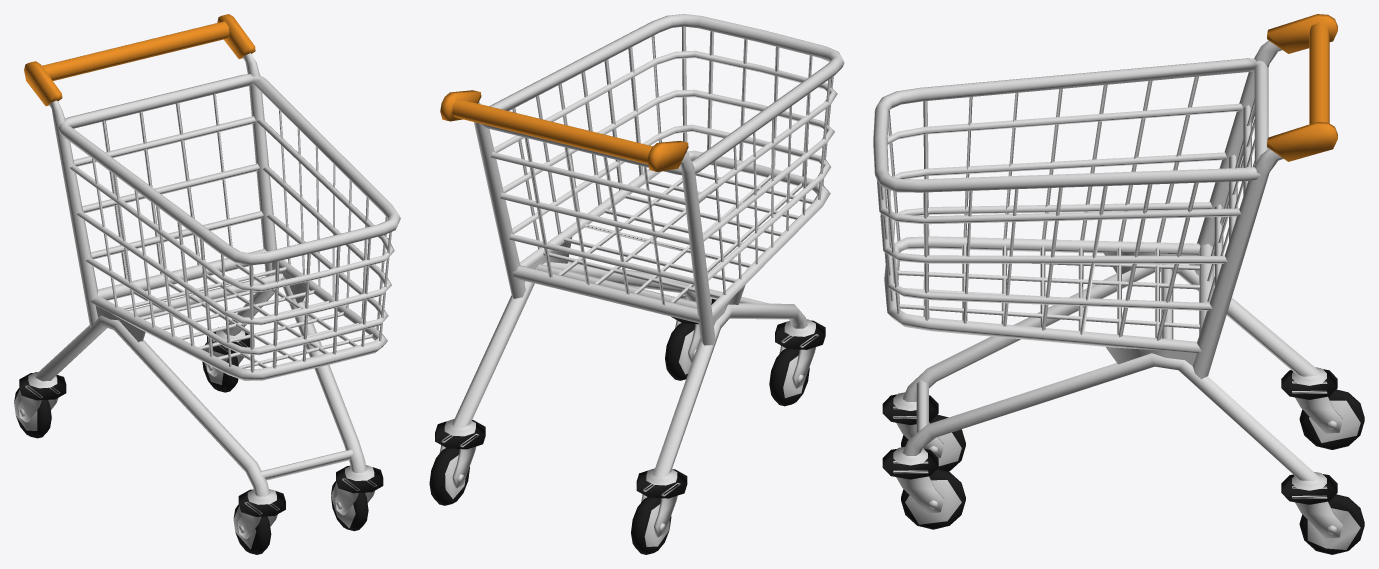
The model's file is ShoppingCart.glb.
The picture shows the model from 3 angles, left to right: view 1: azimuth 30°, elevation 25°; view 2: azimuth 150°, elevation 25°; view 3: azimuth 270°, elevation 25°; orthographic projection. The views are drawn at different scales.
Visible parts, largest first — view 1: Einkaufswagen; view 2: Einkaufswagen; view 3: Einkaufswagen.
Boxes of the visible parts, left/top/right/bottom form: Einkaufswagen: left=14, top=14, right=400, bottom=554; Einkaufswagen: left=429, top=14, right=844, bottom=554; Einkaufswagen: left=873, top=14, right=1364, bottom=554.
Bounding box in the file's own units: 0.0863 × 0.1351 × 0.1396.
